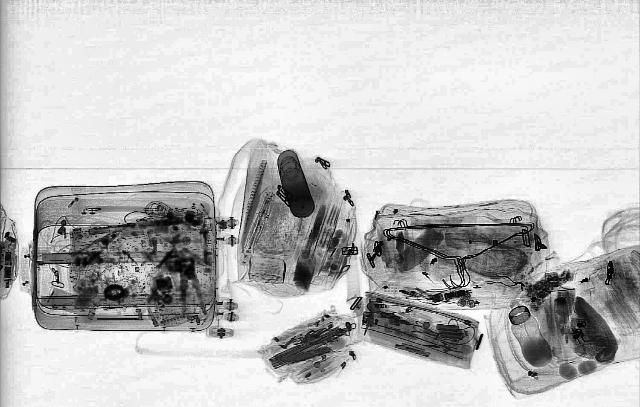Pliers: (172, 258, 208, 320)
